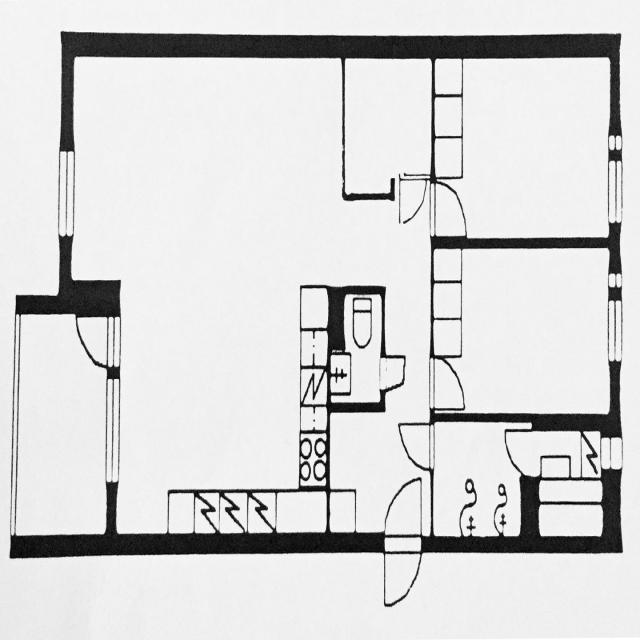door: (385, 533, 422, 615), (385, 473, 422, 555), (76, 318, 121, 368), (429, 356, 466, 409), (429, 182, 466, 234), (504, 431, 540, 476), (402, 424, 434, 470), (400, 174, 426, 223), (382, 356, 408, 391)
